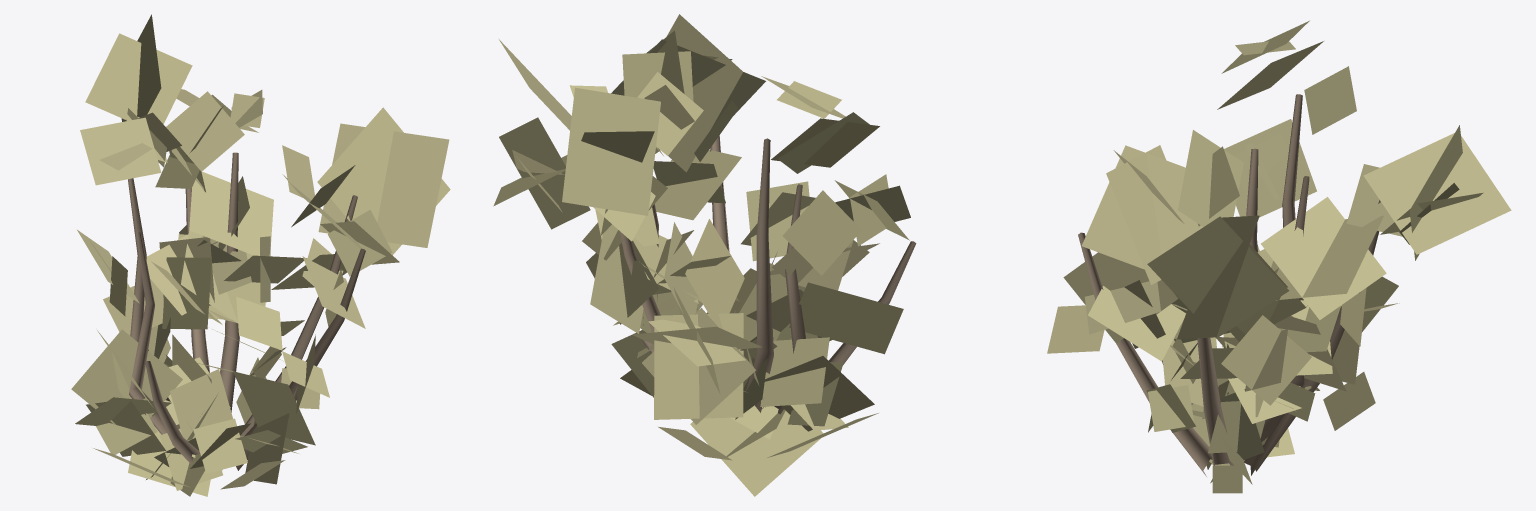
Rendered from shrub-dry.glb.
3 views of the same model, side by side, from view 1: azimuth 30°, elevation 25°; view 2: azimuth 150°, elevation 25°; view 3: azimuth 270°, elevation 25° (orthographic). The views are drawn at different scales.
Visible parts, largest first — view 1: leafDry, wood; view 2: leafDry, wood; view 3: leafDry, wood.
Part boxes in pixels (x1=…): leafDry: x1=71, y1=14, x2=450, y2=496; wood: x1=128, y1=152, x2=365, y2=470; leafDry: x1=493, y1=14, x2=910, y2=496; wood: x1=619, y1=135, x2=916, y2=414; leafDry: x1=1047, y1=20, x2=1511, y2=493; wood: x1=1078, y1=94, x2=1380, y2=476.
Bounding box in the file's own units: 1.59 × 1.51 × 1.58.
